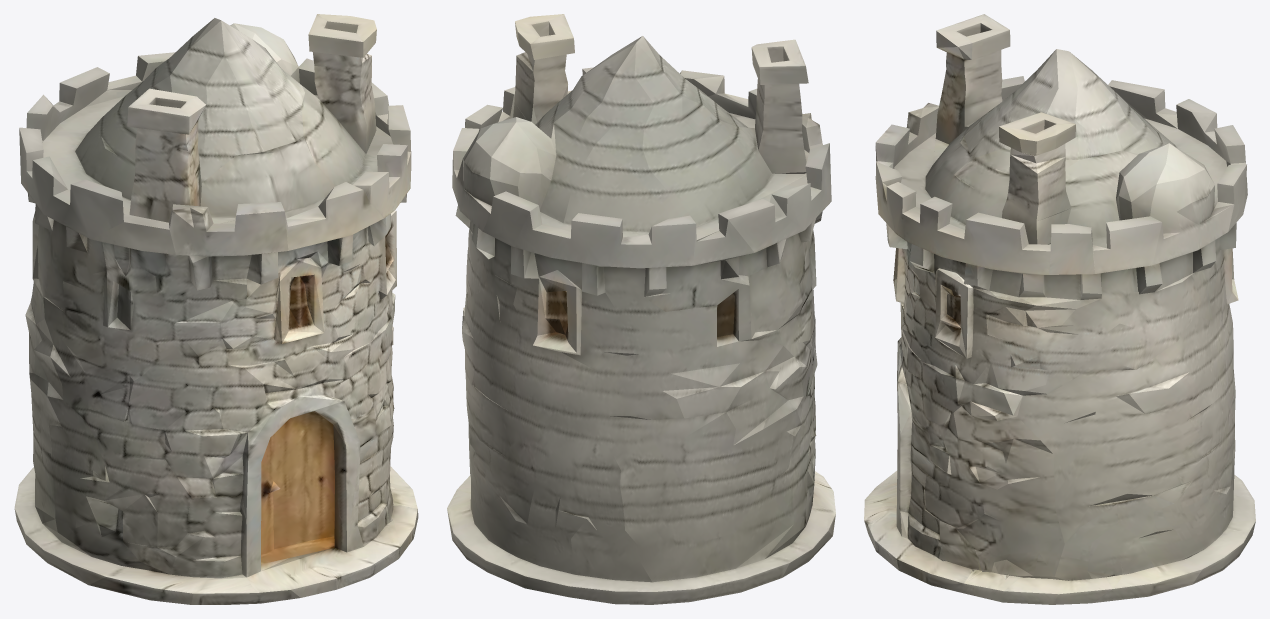
File: castleTower.glb
3 views of the same model, side by side, from view 1: azimuth 30°, elevation 25°; view 2: azimuth 150°, elevation 25°; view 3: azimuth 270°, elevation 25° (orthographic). The views are drawn at different scales.
Visible parts, largest first — view 1: model; view 2: model; view 3: model.
Boxes of the visible parts, left/top/right/bottom form: model: left=14, top=14, right=418, bottom=604; model: left=447, top=14, right=835, bottom=604; model: left=864, top=14, right=1255, bottom=604.
Bounding box in the file's own units: 1.39 × 1.91 × 1.42.
1 material, 1 textured.
